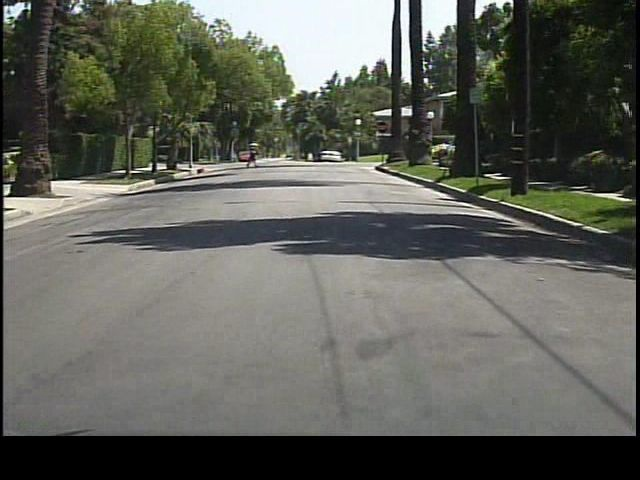person: (247, 138, 261, 170)
